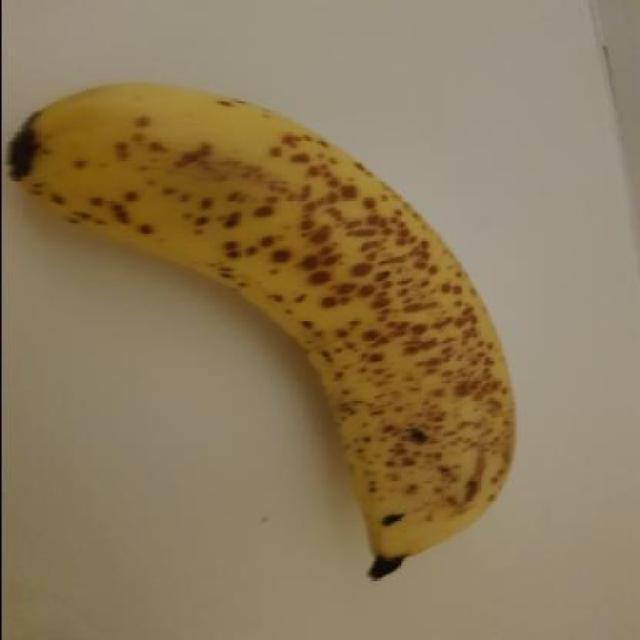Banana: (1, 83, 517, 582)
